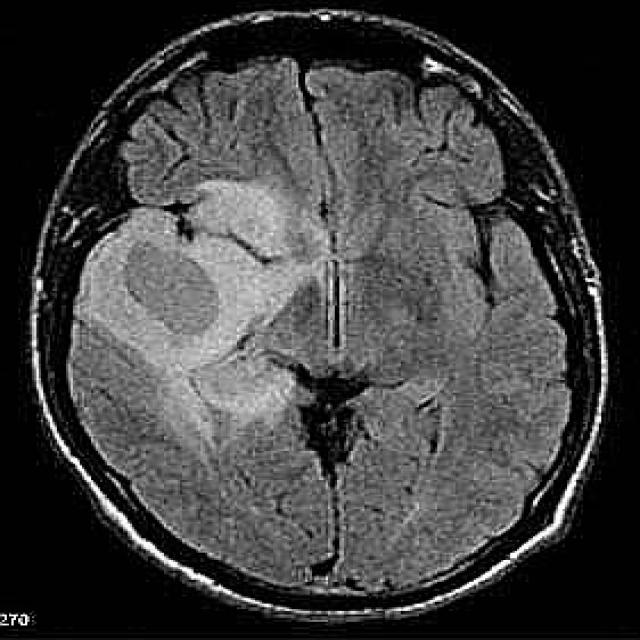Tumor-Cell: (84, 193, 300, 366)
